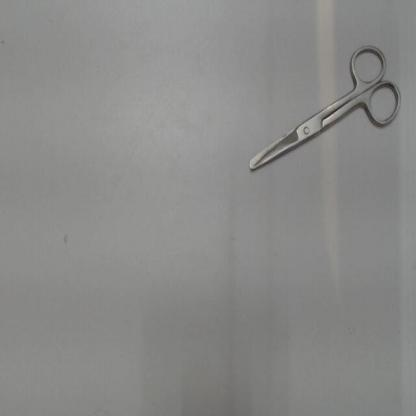Dressing Scissors: (237, 34, 409, 187)
